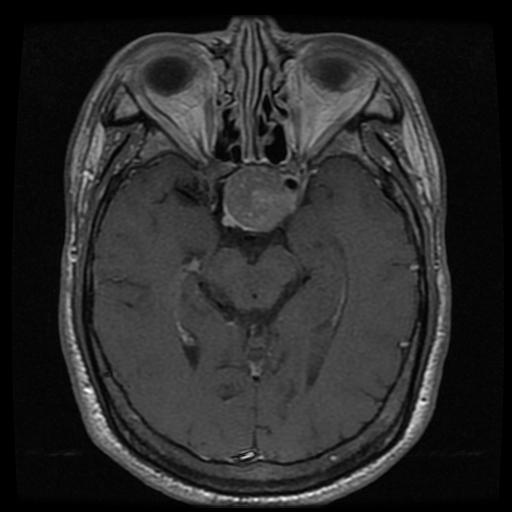Pituirity_tumour: (225, 163, 293, 229)
